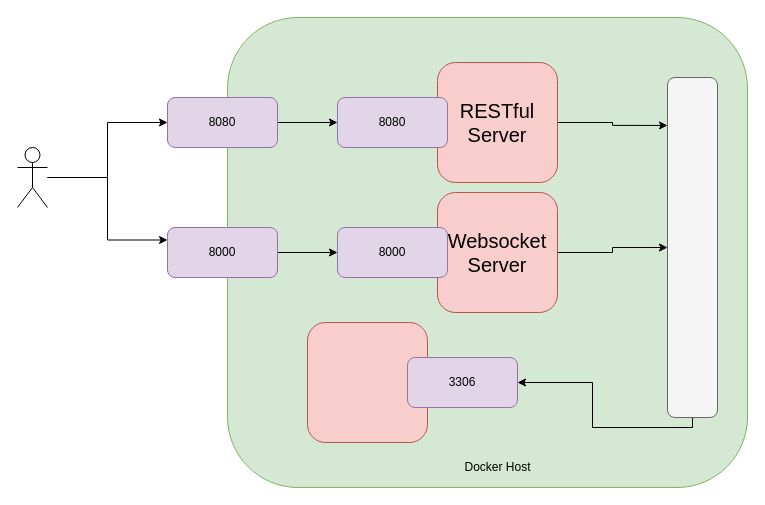
Image size: 765x505. Some labels were removed from this diagram. Each missing label, with the centre of its shape:
Brigde: [692,247]
MySQL: [367,382]
User: [32,177]
